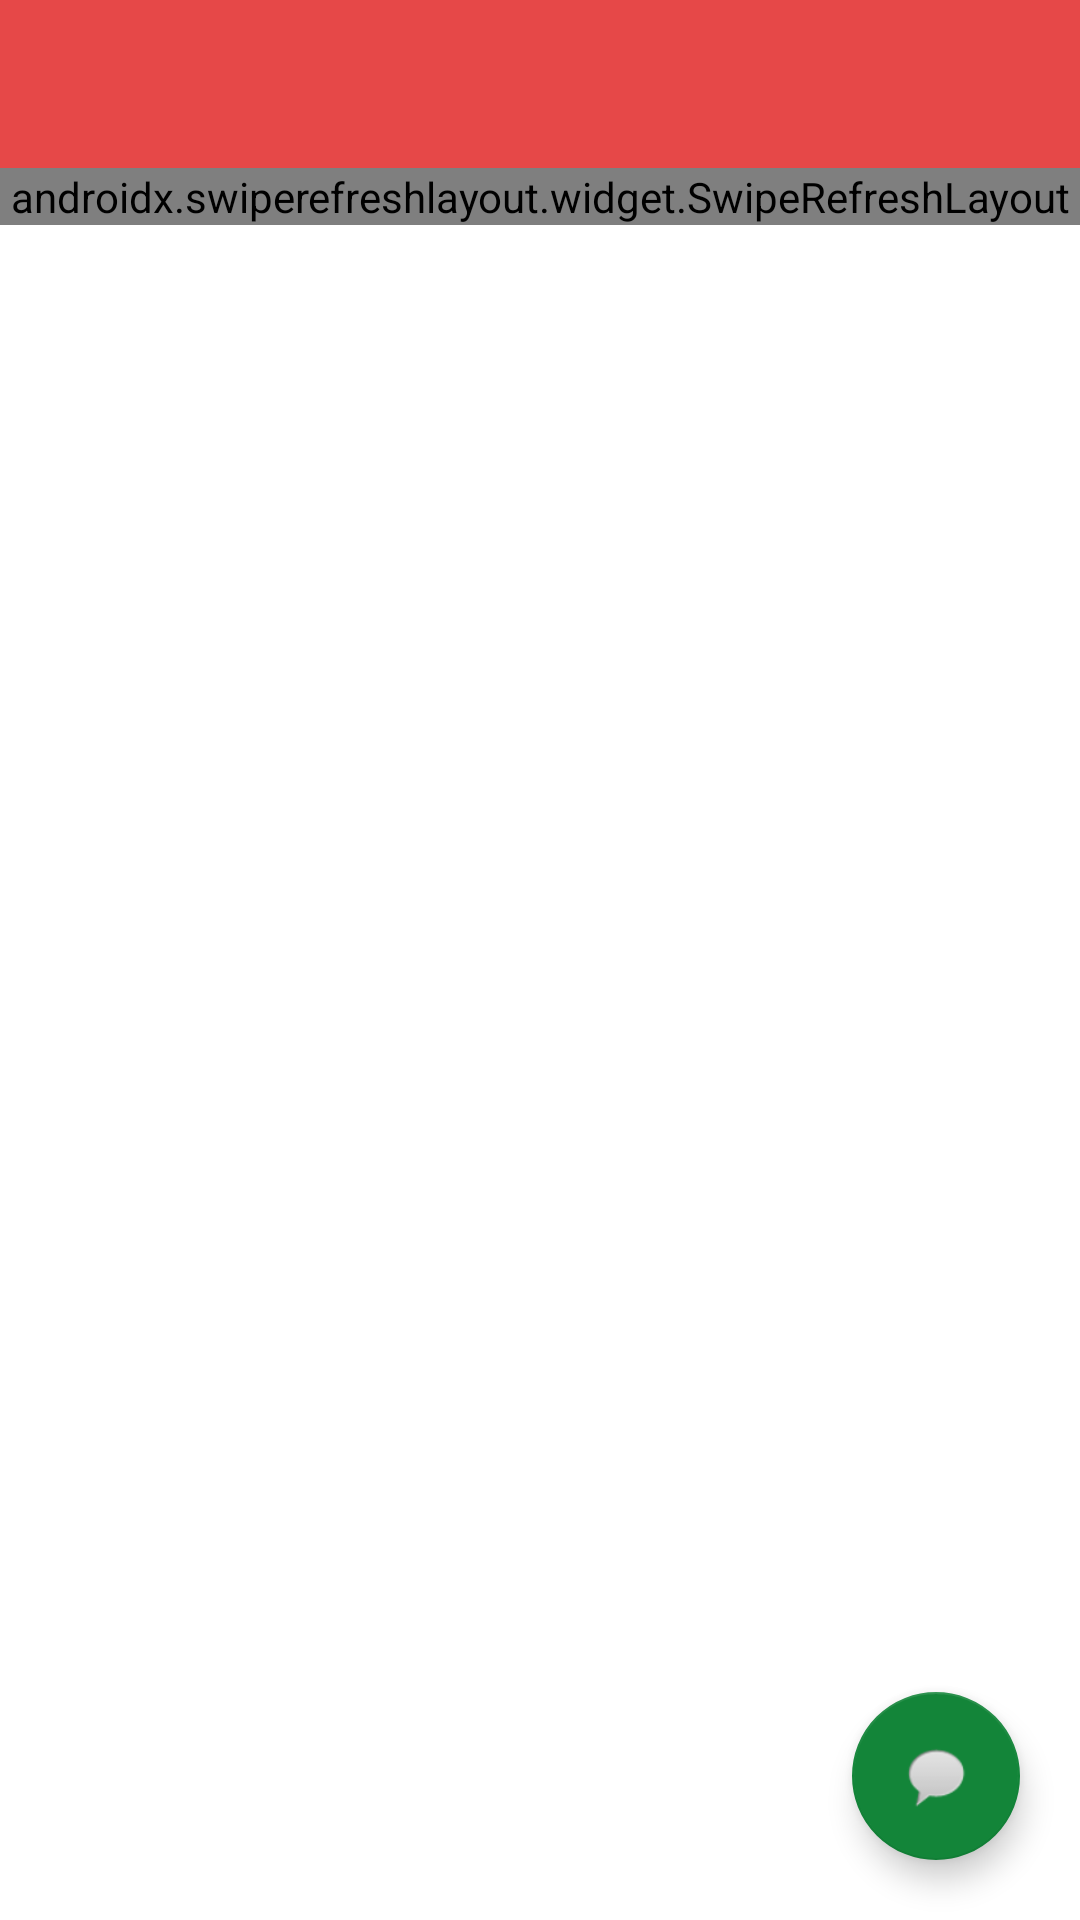

Screen size 1080w x 1920h. Icon name, then its box in pixels as (x1, y1, x2, y2):
sym action chat: (852, 1692, 1020, 1860)
